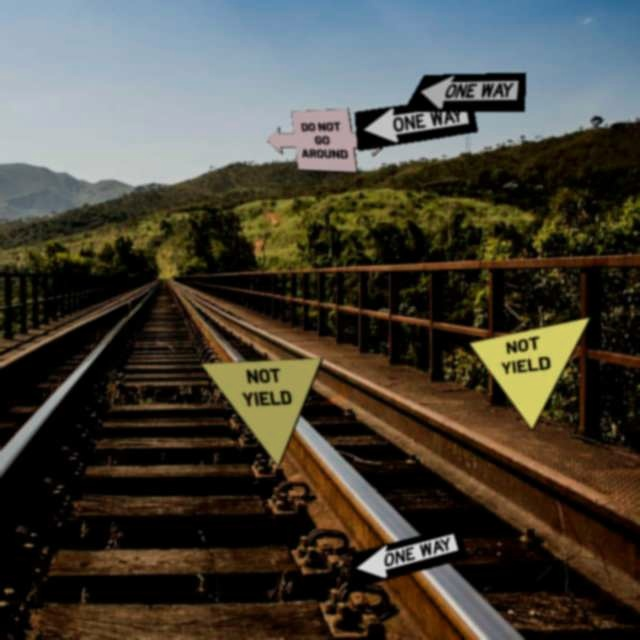DO_NOT_GO_AROUND: (266, 108, 390, 173)
NOT_YIELD: (468, 316, 592, 431), (199, 357, 323, 468)
ONE_WAY_ left: (345, 525, 469, 591), (354, 95, 478, 151), (402, 72, 526, 112)
